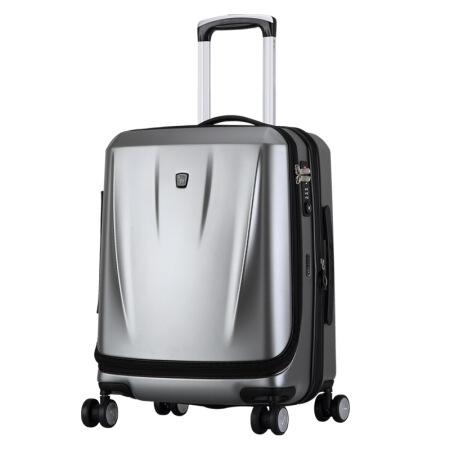luggage: (81, 11, 352, 437)
